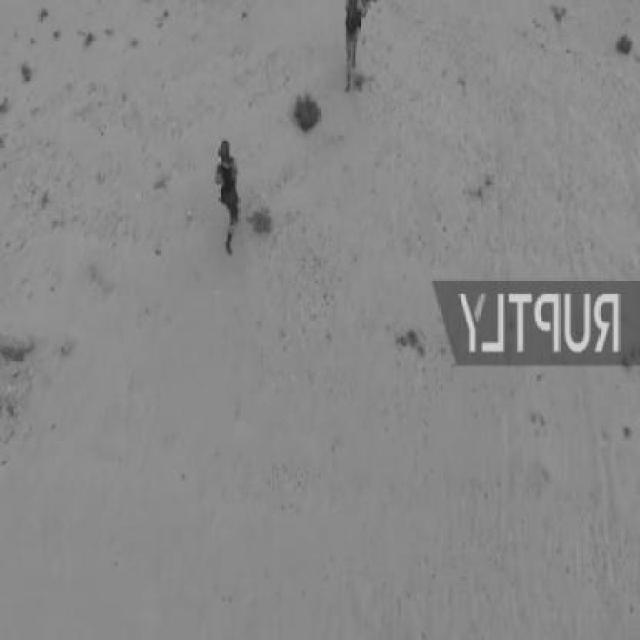Person: (337, 1, 377, 101), (219, 139, 245, 254)
